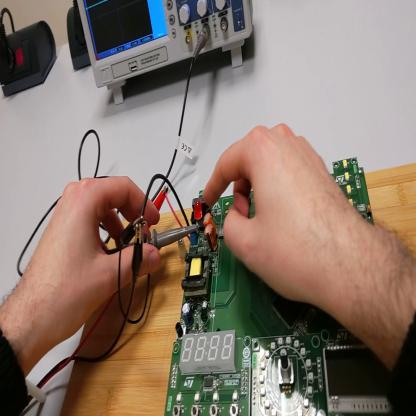hand: (205, 124, 354, 307), (22, 173, 163, 345)
low voltage board: (164, 158, 392, 416)
oscilloscope: (79, 1, 254, 104)
oscilloscope probe tip: (109, 222, 198, 256)
socket: (2, 19, 58, 97), (68, 9, 92, 75)
working area: (61, 162, 416, 415)
